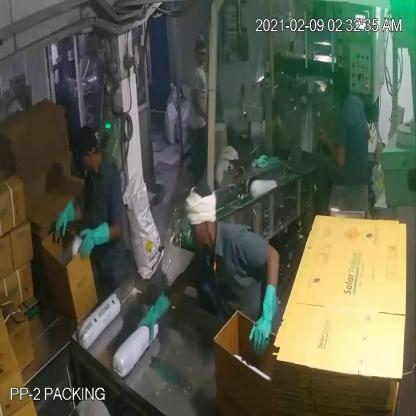glove: (237, 278, 283, 358), (119, 291, 180, 347), (49, 194, 79, 245), (72, 223, 113, 260)
no_glove: (312, 124, 347, 176), (190, 83, 212, 132)
